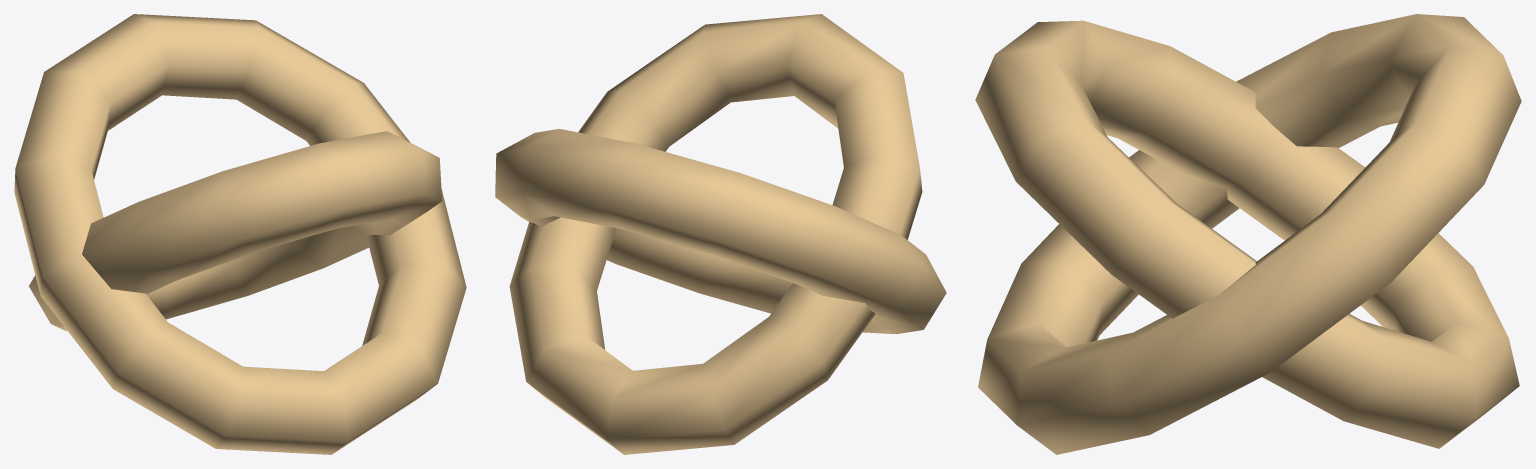
File: SM_Dock_Knot.fbx
3 renders of one model, left to right at view 1: azimuth 30°, elevation 25°; view 2: azimuth 150°, elevation 25°; view 3: azimuth 270°, elevation 25°, orthographic. The views are drawn at different scales.
Visible parts, largest first — view 1: SM_Dock_Knot; view 2: SM_Dock_Knot; view 3: SM_Dock_Knot.
Part boxes in pixels (x1,y1,x2,y2): SM_Dock_Knot: (14,14,466,454); SM_Dock_Knot: (495,14,946,454); SM_Dock_Knot: (975,14,1521,454).
Size of the model in its own units: 0.6263 by 0.4582 by 0.61.
